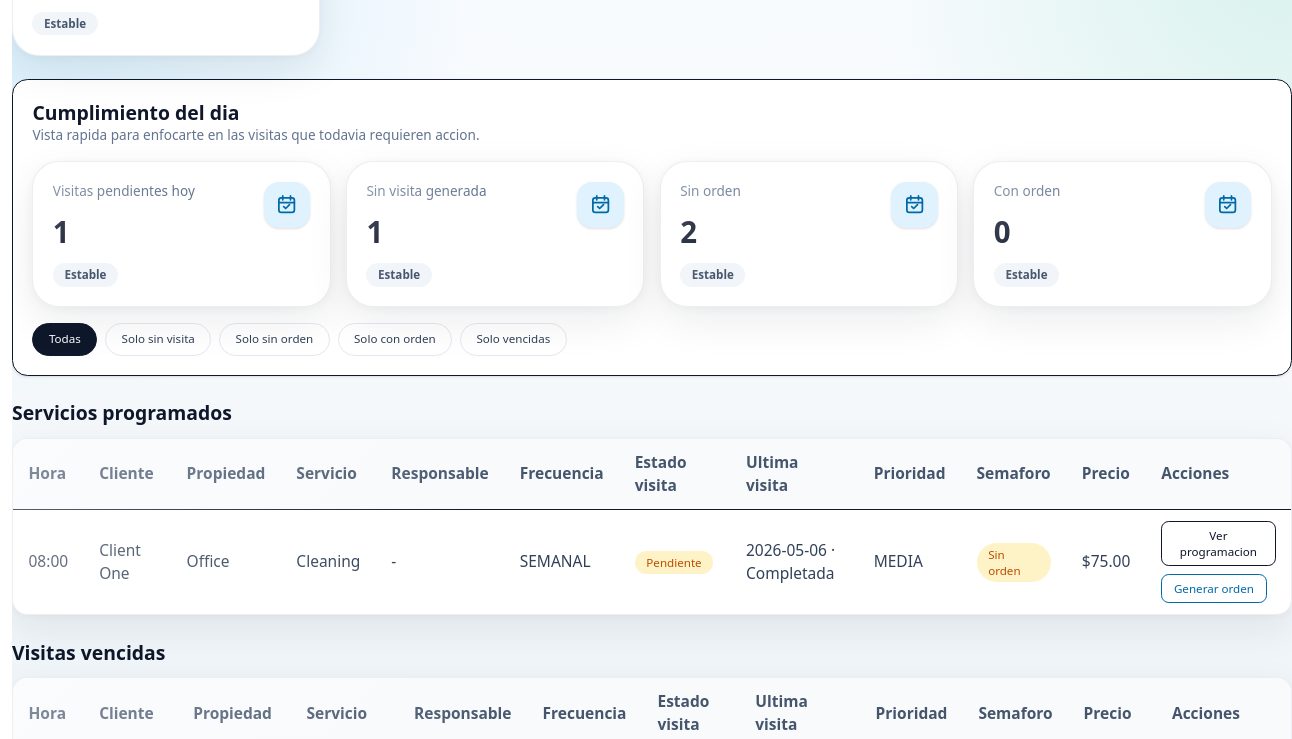
Test: AgendaHoyPage › aplica el filtro rapido de vencidas para enfocarse en atrasadas
(page scrolled)
Expected: the text "Client One" is shown, [84,509,171,614]
Click the button "Solo vencidas".
click(513, 339)  # box [460,323,567,356]
(page scrolled)
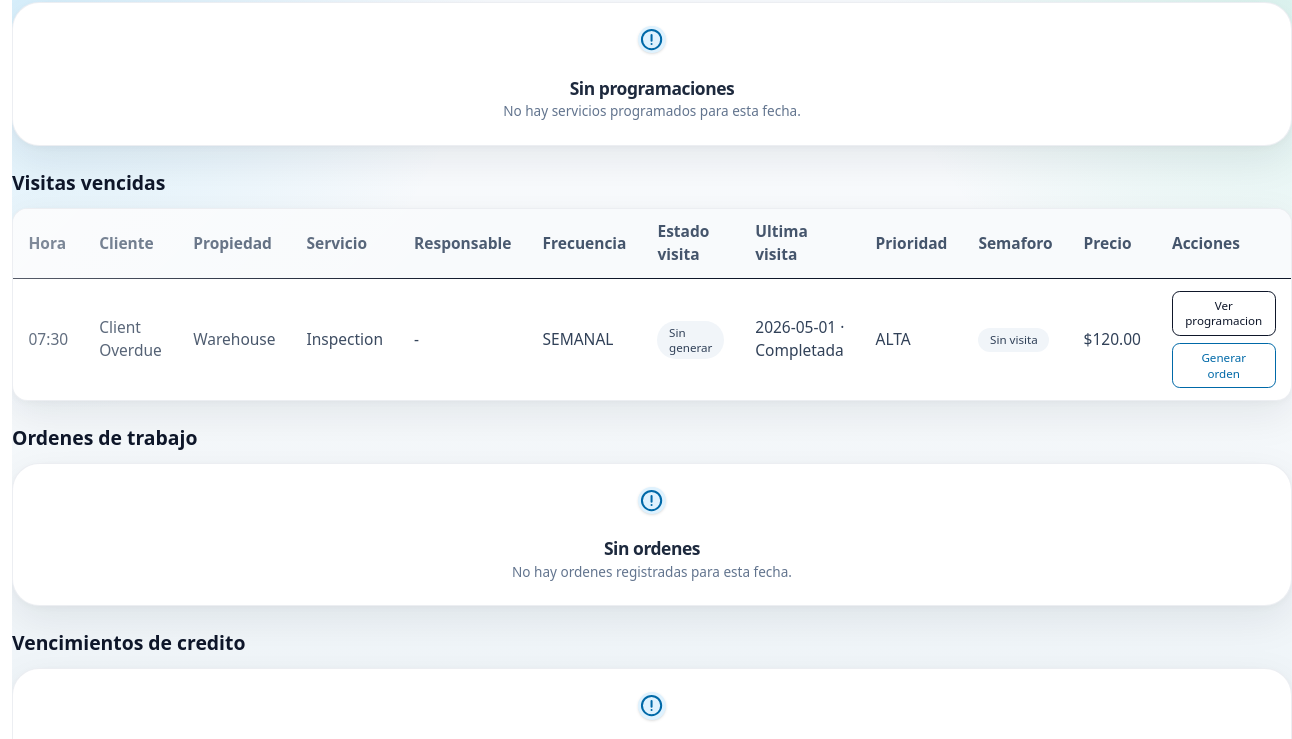
Expected: the text "Client Overdue" is shown, [84,279,178,400]
Expected: the text "Client One" is gone
